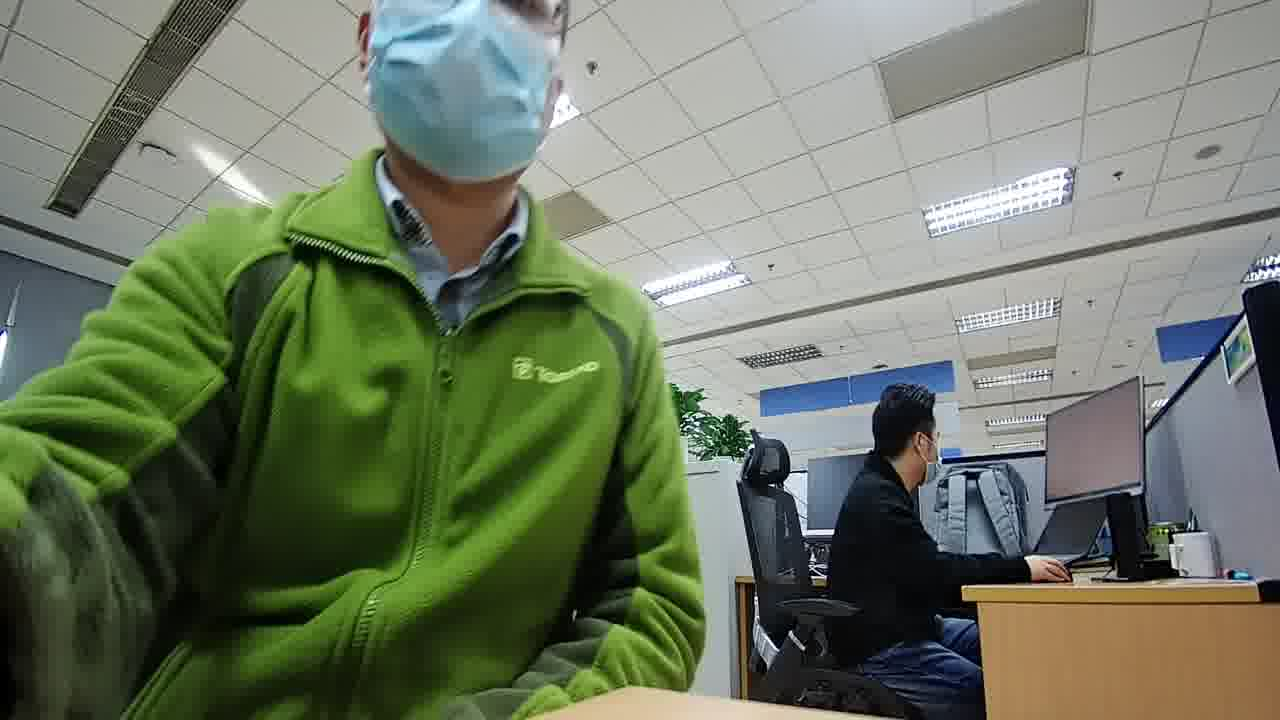face: (923, 424, 945, 489)
mask: (373, 4, 541, 180), (924, 446, 947, 484)
person: (174, 1, 645, 348), (835, 382, 956, 539)
